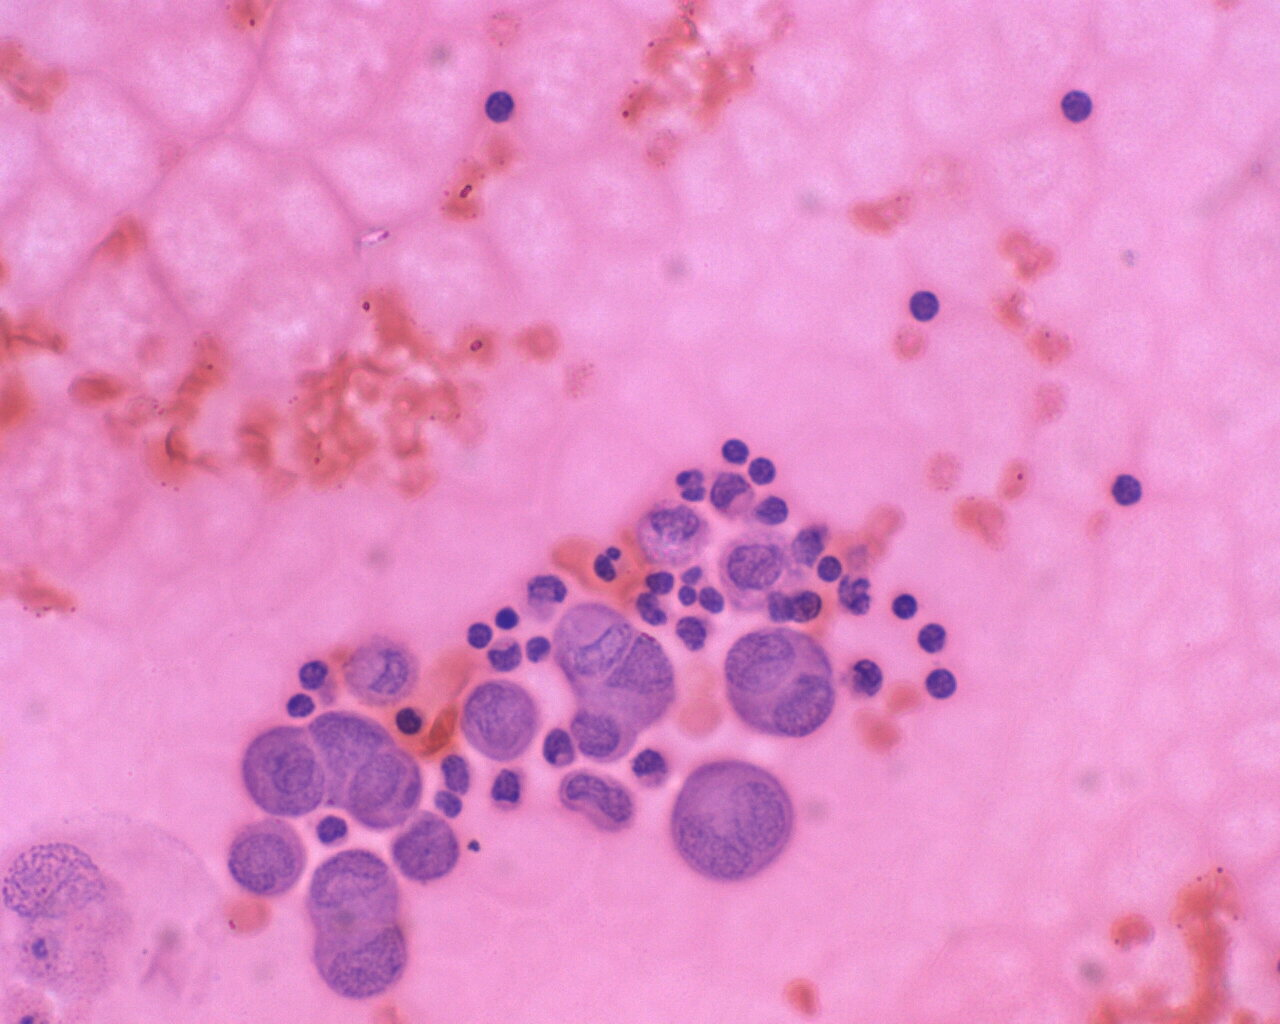ab: (668, 760, 804, 885), (720, 628, 841, 747), (305, 850, 409, 932), (241, 721, 326, 819), (224, 810, 311, 901), (455, 678, 545, 763), (315, 918, 409, 1000)
lymph: (471, 75, 519, 126), (1102, 467, 1149, 514), (1058, 87, 1099, 131), (922, 664, 962, 706), (906, 283, 946, 327), (391, 700, 430, 740), (889, 587, 924, 631), (720, 429, 751, 470)
